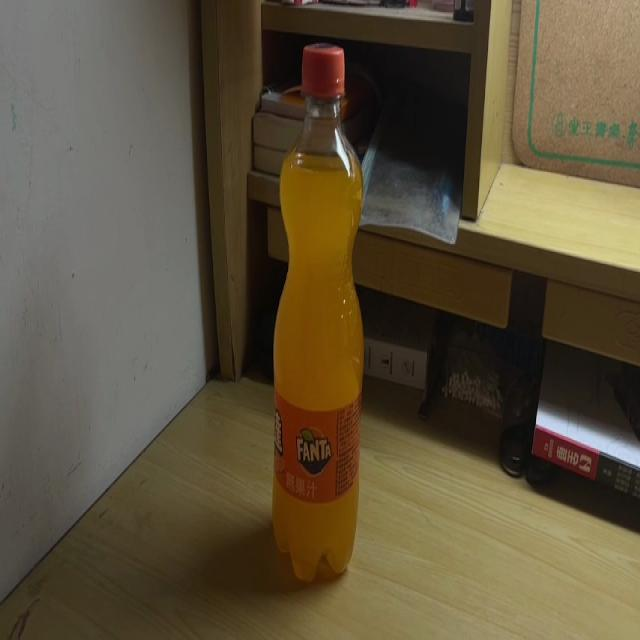Fanta: (272, 40, 366, 590)
